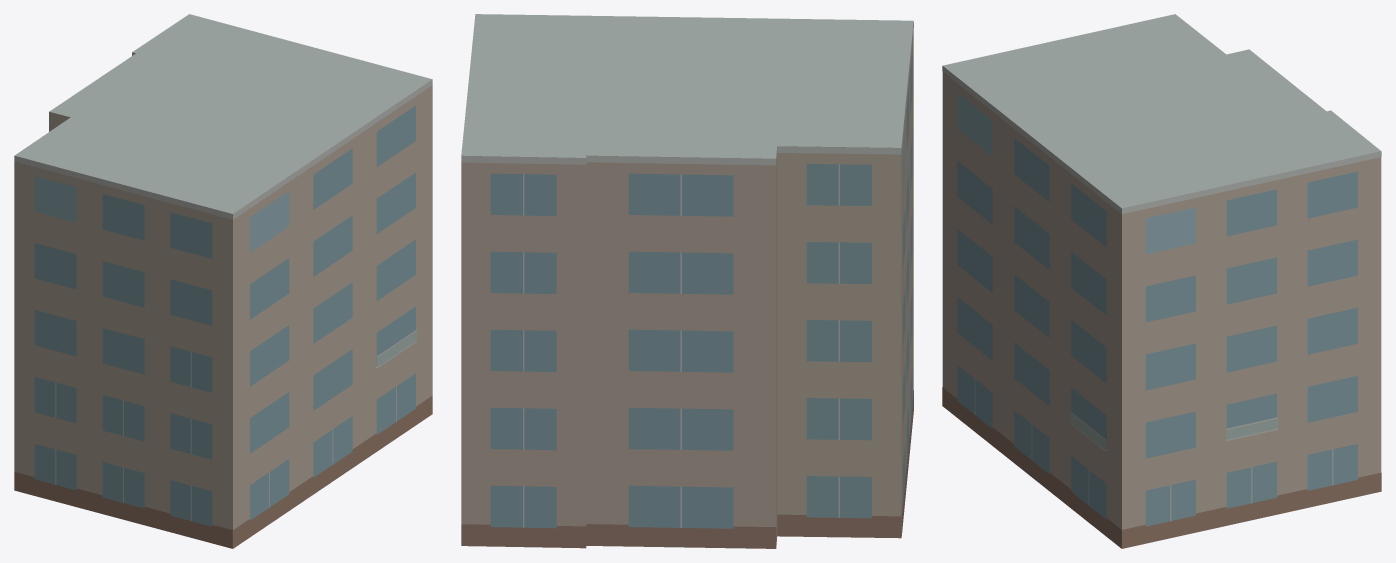
The model's file is survey-upis-32960157.glb.
The picture shows the model from 3 angles, left to right: view 1: azimuth 30°, elevation 25°; view 2: azimuth 150°, elevation 25°; view 3: azimuth 270°, elevation 25°; orthographic projection. The views are drawn at different scales.
Parts seen in each view (by area): view 1: survey-upis-32960157.tmp; view 2: survey-upis-32960157.tmp; view 3: survey-upis-32960157.tmp.
Boxes of the visible parts, x1=… form: survey-upis-32960157.tmp: x1=14, y1=14, x2=432, y2=548; survey-upis-32960157.tmp: x1=461, y1=14, x2=913, y2=548; survey-upis-32960157.tmp: x1=942, y1=14, x2=1381, y2=548.
Bounding box in the file's own units: 17.47 × 14.25 × 16.66.
